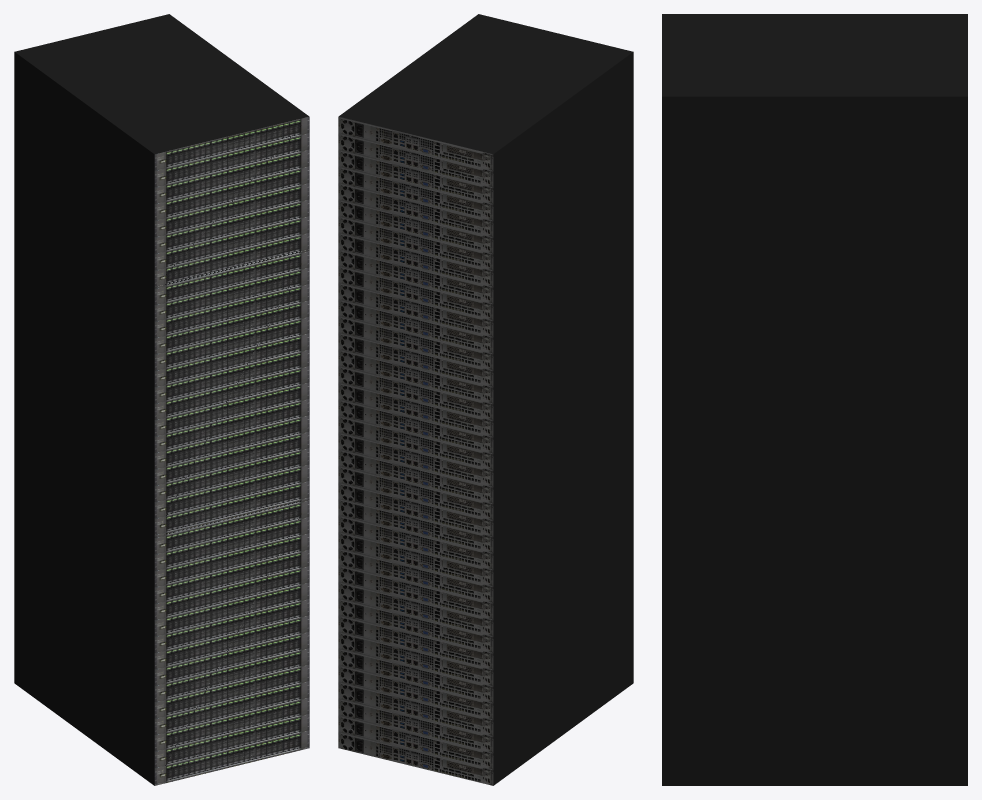
File: NDR38.fbx
3 views of the same model, side by side, from view 1: azimuth 30°, elevation 25°; view 2: azimuth 150°, elevation 25°; view 3: azimuth 270°, elevation 25° (orthographic). The views are drawn at different scales.
Parts seen in each view (by area): view 1: NDR38; view 2: NDR38; view 3: NDR38.
Boxes of the visible parts, box(x1,y1,x2,y2) form: NDR38: box(14, 14, 309, 785); NDR38: box(338, 14, 633, 785); NDR38: box(662, 14, 967, 785).
Bounding box in the file's own units: 434 × 1691 × 680.
3 materials, 2 textured.
